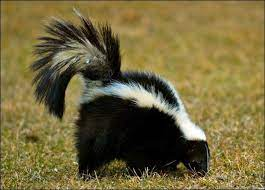skunk: (31, 9, 212, 175)
